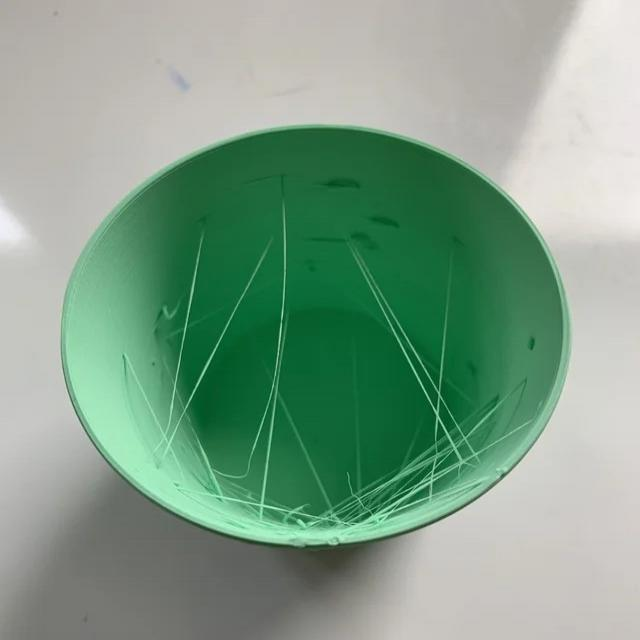Stringing: (342, 228, 487, 474), (312, 394, 513, 533), (157, 239, 277, 451), (251, 200, 297, 522)
